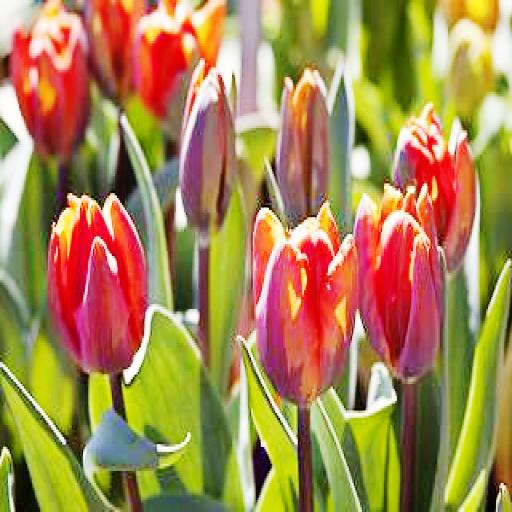tulip: (253, 203, 358, 403), (354, 193, 443, 382), (51, 198, 146, 370), (392, 104, 477, 268), (181, 68, 237, 248), (274, 70, 332, 222)
